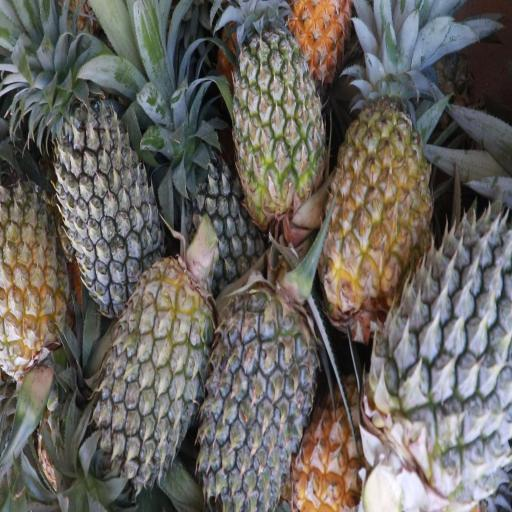------------------------------: (234, 15, 331, 217)
Pineapple - v8 v1: (326, 105, 433, 310), (0, 189, 73, 367)
